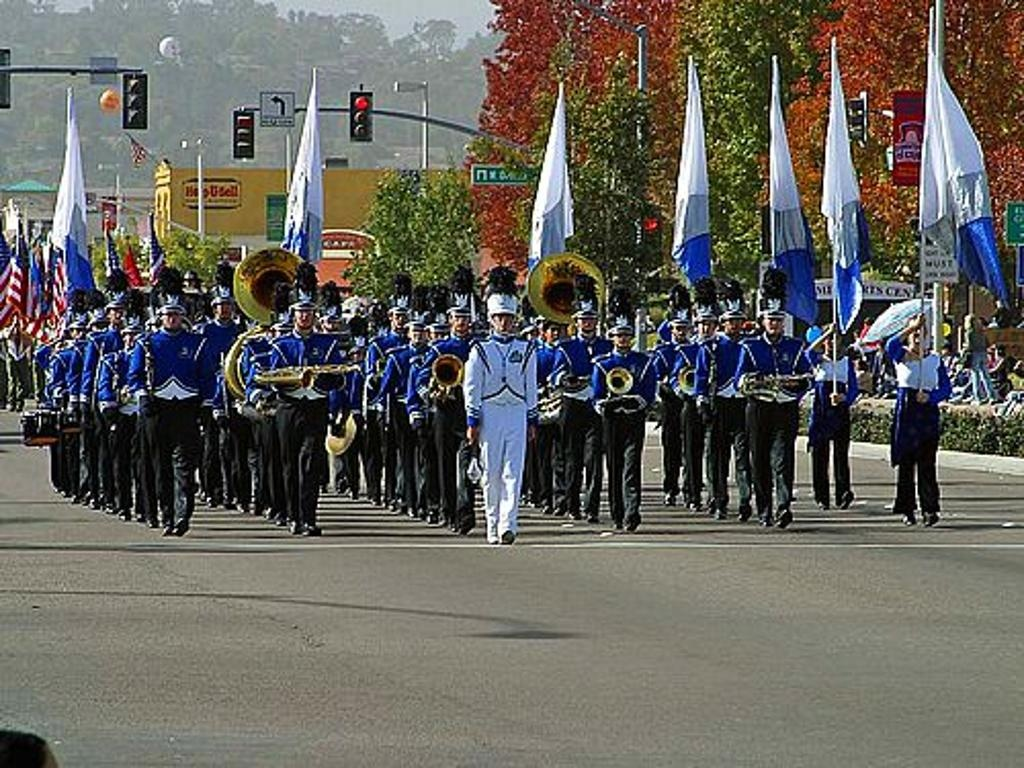human_face: (576, 315, 596, 337), (492, 312, 512, 332), (824, 330, 842, 352), (723, 314, 741, 332), (295, 309, 313, 327), (322, 314, 340, 332), (164, 308, 180, 328), (452, 311, 468, 331), (910, 329, 924, 351), (124, 328, 140, 346), (410, 324, 426, 342), (764, 316, 782, 332), (697, 317, 713, 335), (68, 321, 84, 339), (93, 320, 109, 338), (216, 299, 230, 319), (431, 330, 447, 346), (110, 305, 124, 323), (673, 321, 687, 339), (614, 330, 628, 346), (392, 310, 404, 328), (546, 325, 558, 341)
